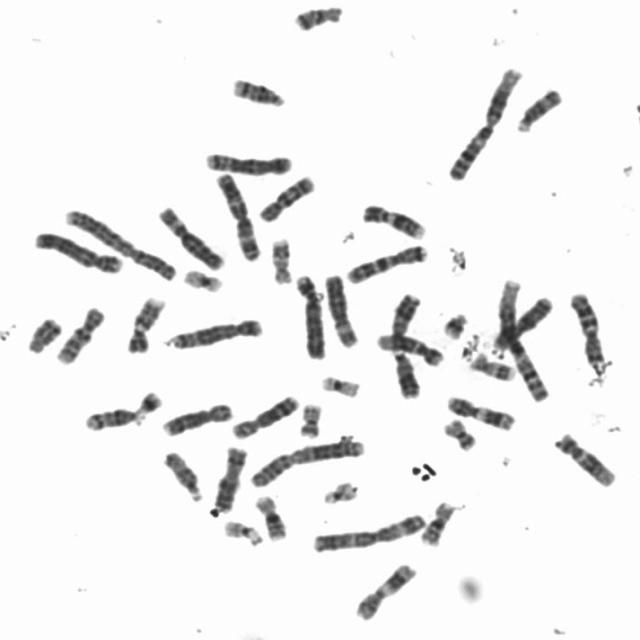A1: (444, 61, 525, 183), (493, 275, 552, 404)
A2: (59, 203, 180, 283), (245, 434, 368, 488)
A3: (308, 508, 429, 554), (211, 167, 263, 262)
B4: (30, 227, 126, 276), (291, 269, 329, 361)
B5: (164, 313, 267, 351), (201, 147, 294, 176)
C10: (52, 302, 108, 366), (253, 169, 318, 224)
C11: (350, 558, 420, 622), (442, 390, 518, 432)
C12: (550, 428, 620, 488), (372, 328, 447, 368)
C6: (154, 201, 227, 271), (320, 268, 360, 348)
C7: (342, 239, 431, 285), (566, 286, 608, 369)
C8: (228, 390, 302, 440), (158, 397, 236, 438)
C9: (356, 198, 428, 241), (122, 292, 167, 354)
D13: (389, 347, 422, 400), (388, 292, 422, 341)
D14: (227, 73, 288, 109), (80, 402, 145, 433)
D15: (159, 446, 205, 504), (512, 83, 564, 134)
E16: (415, 497, 457, 547), (250, 490, 290, 542)
E17: (465, 349, 518, 382), (267, 234, 295, 286)
E18: (289, 0, 346, 33), (22, 312, 64, 356)
F19: (179, 263, 225, 294), (316, 370, 363, 399)
F20: (439, 414, 479, 452), (294, 398, 325, 440)
G21: (131, 385, 165, 420), (438, 308, 471, 340)
G22: (219, 516, 265, 548), (318, 476, 360, 505)
X: (490, 291, 556, 352), (208, 441, 250, 514)
